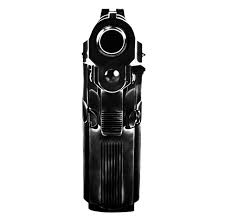gun: (81, 5, 146, 214)
